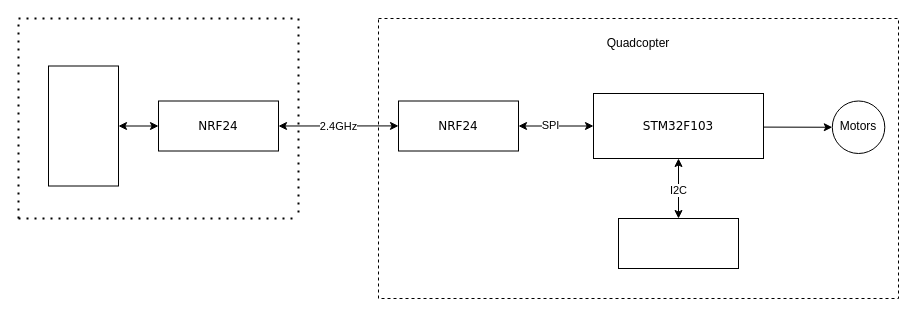
The diagram is 916 pixels wide and 316 high, and some of its shapes have lost their labels. The shapes that lost their labels are listed below. From the top down, each one's centre as x and y in pixels, then its label:
At (x=83, y=125): "PC".
At (x=678, y=243): "MPU6050".
